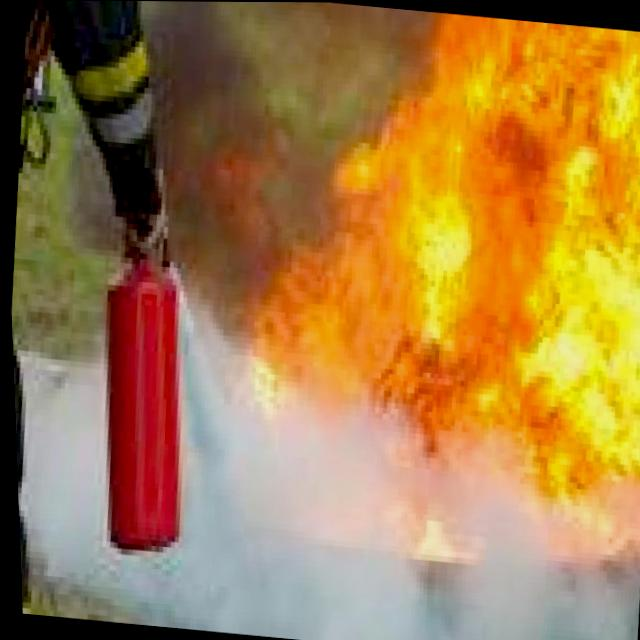FireExtinguisher: (67, 149, 205, 556)
